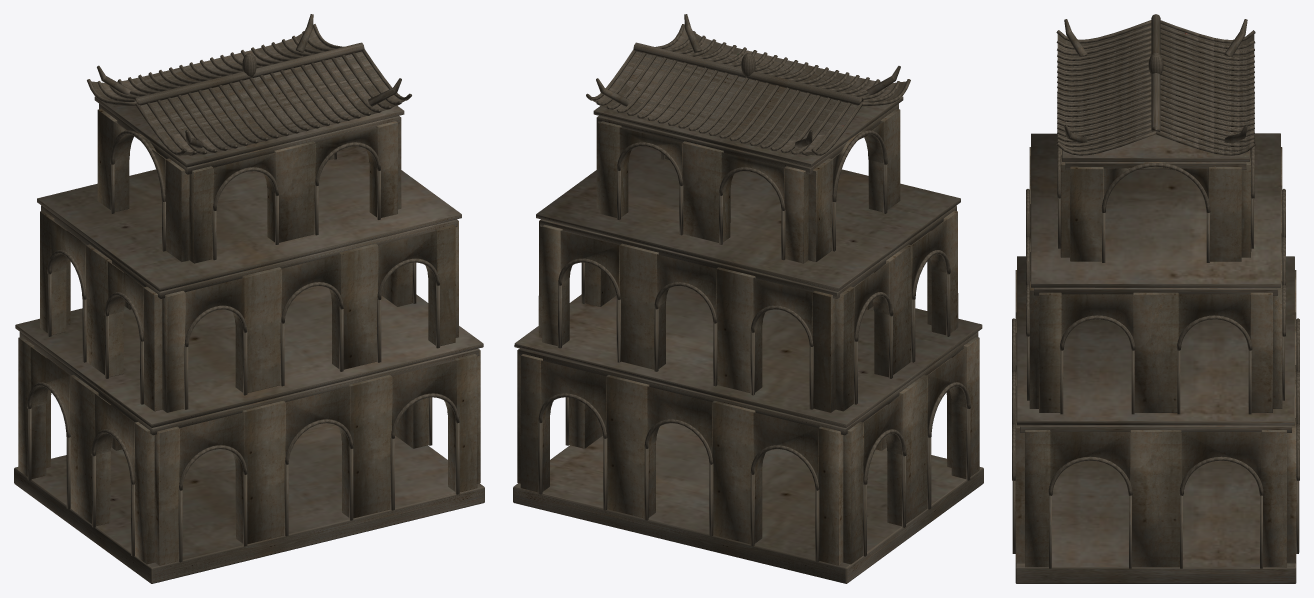
The model's file is thap_rua_lod1.glb.
3 renders of one model, left to right at view 1: azimuth 30°, elevation 25°; view 2: azimuth 150°, elevation 25°; view 3: azimuth 270°, elevation 25°, orthographic.
Visible parts, largest first — view 1: thap_rua.001; view 2: thap_rua.001; view 3: thap_rua.001.
Boxes of the visible parts, x1,y1,x2,y2 form: thap_rua.001: (14,14,484,583); thap_rua.001: (513,14,983,583); thap_rua.001: (1012,14,1299,583).
Bounding box in the file's own units: 6.41 × 7.93 × 4.61.
2 materials, 2 textured.
